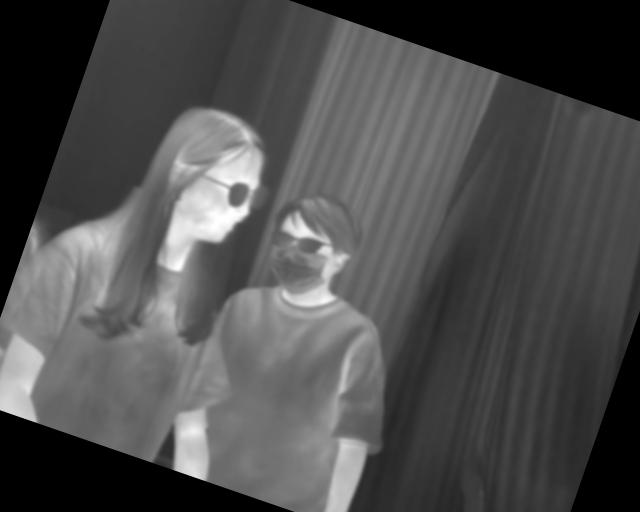face: (254, 180, 371, 311)
